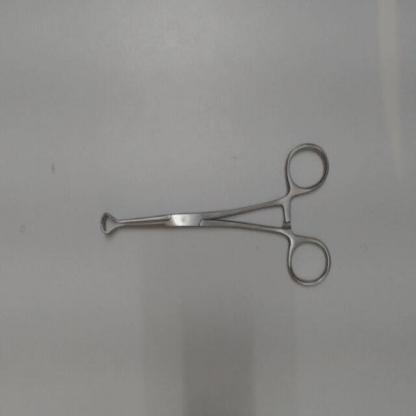Babcock Tissue Forceps: (96, 136, 335, 291)
